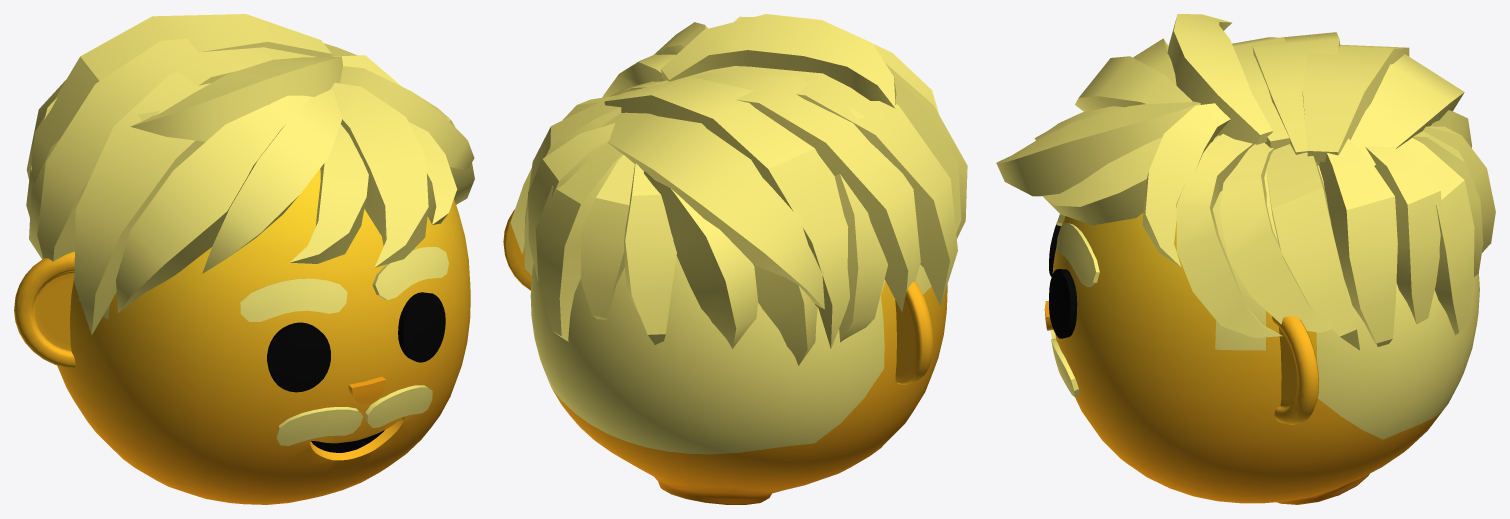
File: man_blond_hair.glb
3 views of the same model, side by side, from view 1: azimuth 30°, elevation 25°; view 2: azimuth 150°, elevation 25°; view 3: azimuth 270°, elevation 25° (orthographic). The views are drawn at different scales.
Visible parts, largest first — view 1: Cube.389, Roundcube.028, Circle.367, Circle.369, ears.024, Circle.370, Circle.368; view 2: Cube.389, Roundcube.028, ears.024; view 3: Cube.389, Roundcube.028, ears.024, Circle.367, Circle.369, Circle.370.
Boxes of the visible parts, bbox=[...] form: Cube.389: bbox=[26, 14, 474, 334]; Roundcube.028: bbox=[57, 168, 470, 504]; Circle.367: bbox=[267, 292, 445, 392]; Circle.369: bbox=[240, 247, 448, 321]; ears.024: bbox=[14, 251, 75, 368]; Circle.370: bbox=[276, 385, 432, 445]; Circle.368: bbox=[348, 376, 386, 404]; Cube.389: bbox=[510, 14, 967, 365]; Roundcube.028: bbox=[530, 256, 947, 504]; ears.024: bbox=[503, 209, 933, 384]; Cube.389: bbox=[996, 14, 1495, 350]; Roundcube.028: bbox=[1052, 135, 1479, 504]; ears.024: bbox=[1272, 315, 1318, 424]; Circle.367: bbox=[1049, 223, 1077, 338]; Circle.369: bbox=[1056, 214, 1099, 286]; Circle.370: bbox=[1051, 329, 1079, 396].
Size of the model in its own units: 1.76 by 1.73 by 1.77.
Materials: 2 (2 with a texture image).
